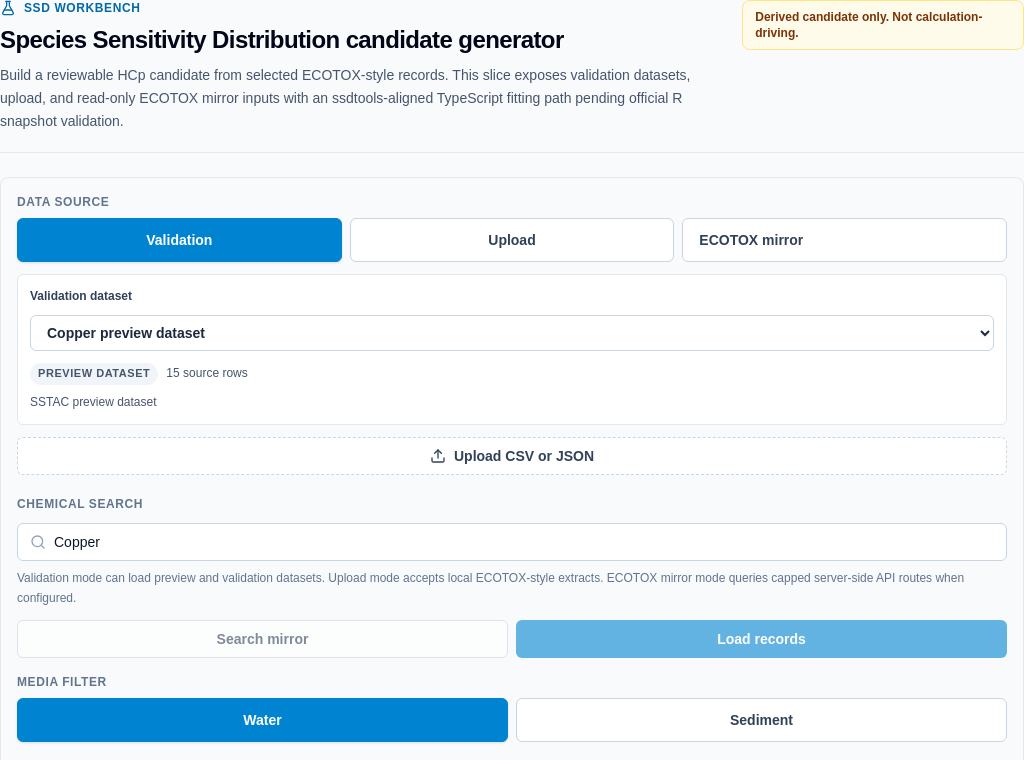
Test case: SsdWorkbench › shows a safe not-configured ECOTOX mirror receipt
Expected: the button "Search mirror" is disabled, [17,620,508,658]
Expected: the button "Load records" is disabled, [516,620,1007,658]
Step 1. Click the button "ECOTOX mirror" → x=845, y=240, box [682,218,1007,262]
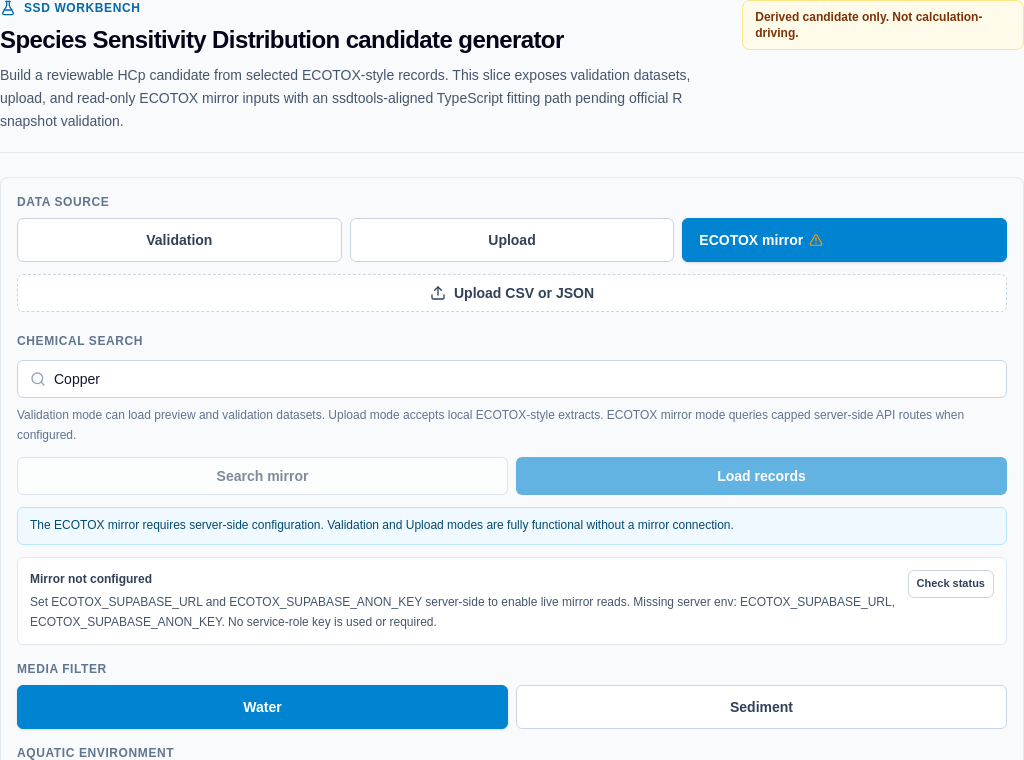
Expected: the button "Search mirror" is disabled, [17,457,508,495]
Expected: the text "Mirror not configured" is shown, [30,572,152,586]
Expected: the text "No service-role key is used or required" is shown, [30,595,895,629]
